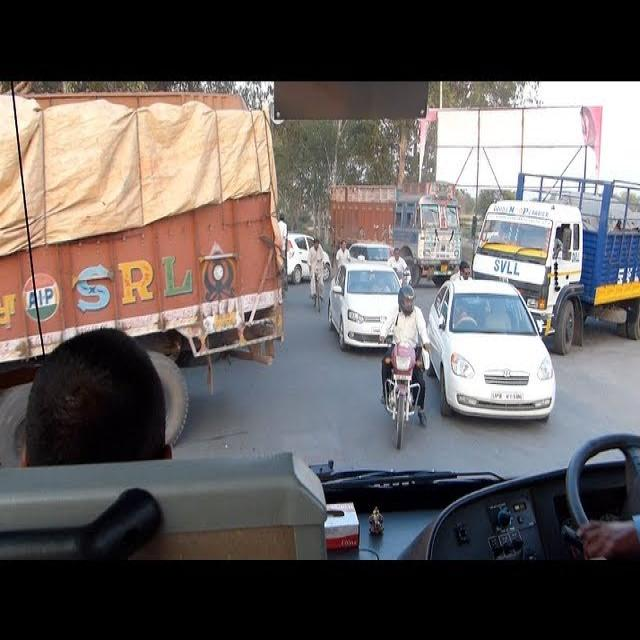plate: (486, 386, 530, 404), (392, 370, 414, 382), (440, 260, 450, 272)
